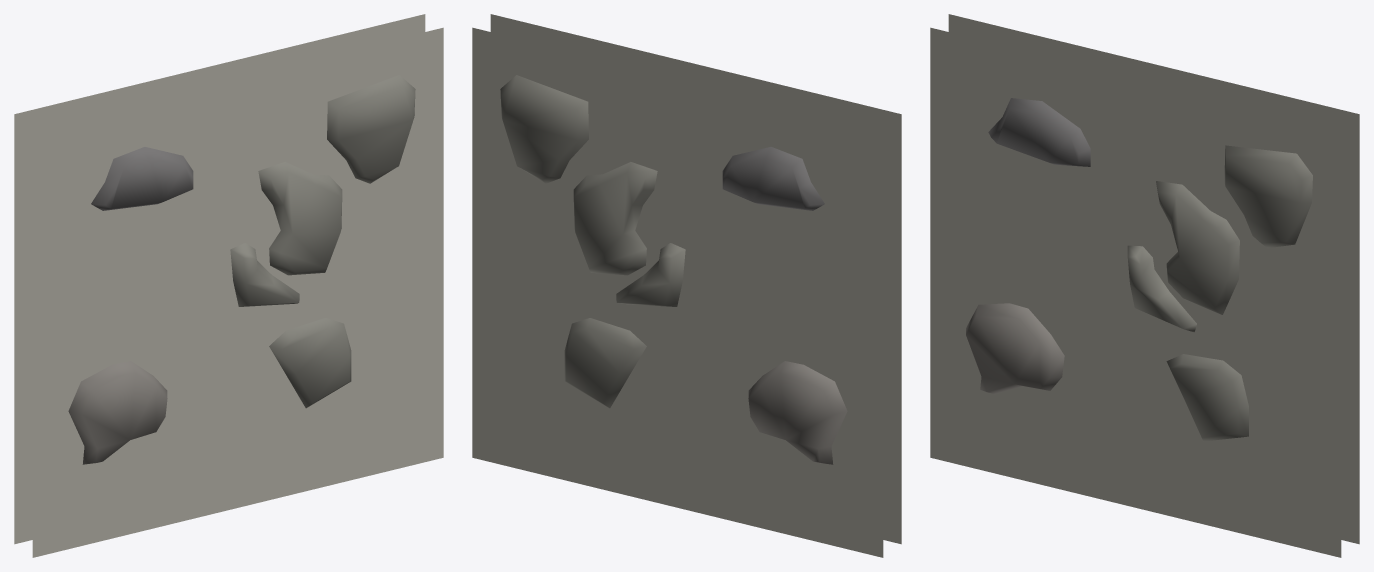
File: rpgpp_ag_wall_04_3x3_d.fbx
3 views of the same model, side by side, from view 1: azimuth 30°, elevation 25°; view 2: azimuth 150°, elevation 25°; view 3: azimuth 330°, elevation 25° (orthographic).
Parts seen in each view (by area): view 1: rpgpp_ag_wall_04_3x3_d; view 2: rpgpp_ag_wall_04_3x3_d; view 3: rpgpp_ag_wall_04_3x3_d.
Boxes of the visible parts, x1=… form: rpgpp_ag_wall_04_3x3_d: x1=14, y1=14, x2=443, y2=557; rpgpp_ag_wall_04_3x3_d: x1=472, y1=14, x2=901, y2=557; rpgpp_ag_wall_04_3x3_d: x1=930, y1=14, x2=1359, y2=557.
Size of the model in its own units: 3 by 3 by 0.404.
